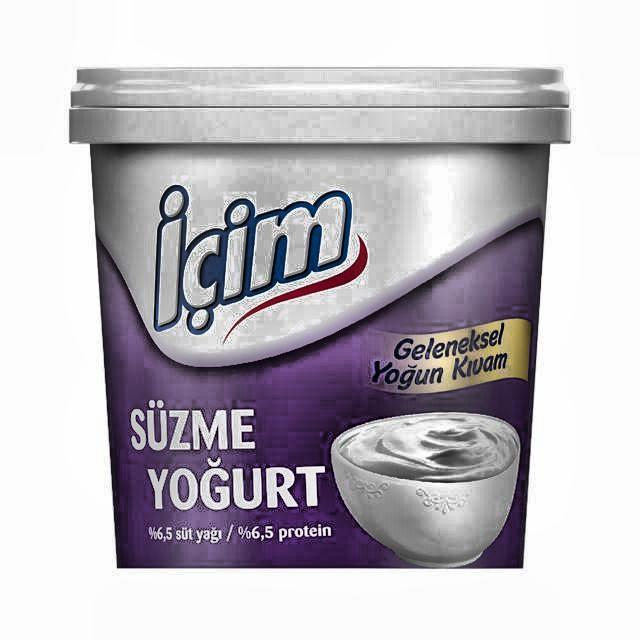plastic: (69, 64, 574, 573)
